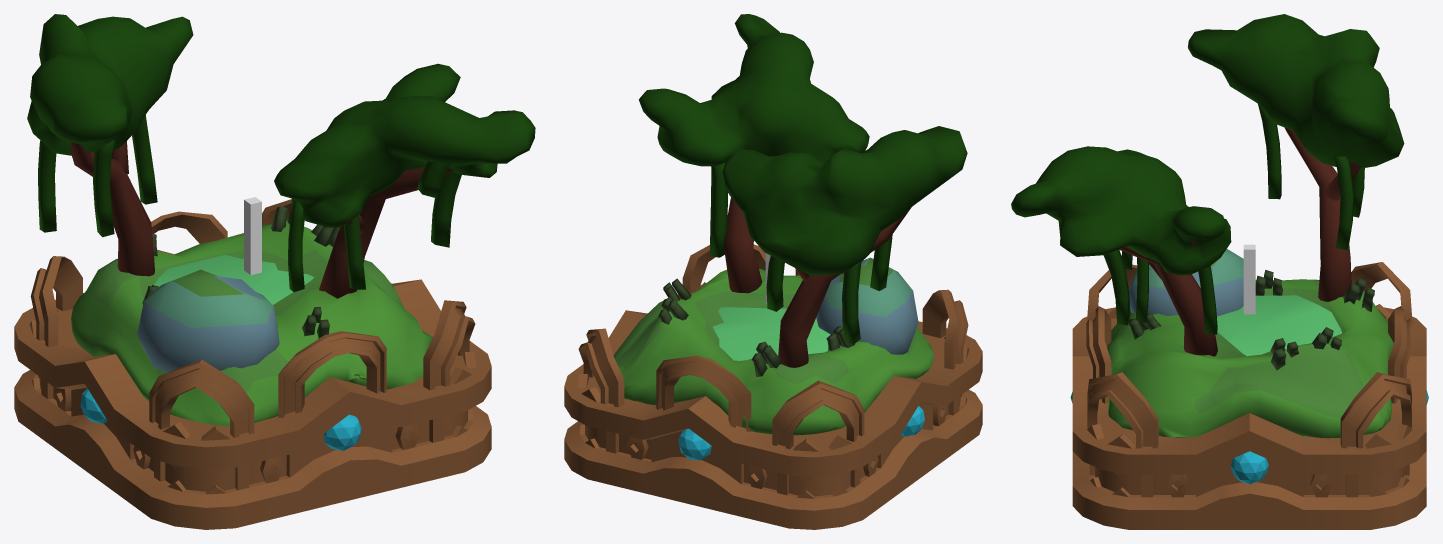
The model's file is Tile_swamp.fbx.
3 views of the same model, side by side, from view 1: azimuth 30°, elevation 25°; view 2: azimuth 150°, elevation 25°; view 3: azimuth 270°, elevation 25° (orthographic). The views are drawn at different scales.
Parts seen in each view (by area): view 1: Cube.008, Icosphere.013, Cube, Icosphere.014, Icosphere, Cylinder.003, Cylinder, Cube.001; view 2: Cube.008, Icosphere.014, Icosphere.013, Cube, Icosphere, Cylinder.003, Cylinder, Cube.004; view 3: Cube.008, Cube, Icosphere.014, Icosphere.013, Cylinder.003, Icosphere, Cylinder, Cube.001, Cube.004, Cube.002, Cube.005.
Boxes of the visible parts, x1=… form: Cube.008: x1=14, y1=199, x2=491, y2=529; Icosphere.013: x1=274, y1=63, x2=535, y2=292; Cube: x1=71, y1=220, x2=432, y2=426; Icosphere.014: x1=27, y1=14, x2=193, y2=237; Icosphere: x1=137, y1=269, x2=279, y2=372; Cylinder.003: x1=70, y1=141, x2=154, y2=276; Cylinder: x1=319, y1=166, x2=453, y2=298; Cube.001: x1=244, y1=197, x2=261, y2=275; Cube.008: x1=564, y1=244, x2=982, y2=529; Icosphere.014: x1=722, y1=126, x2=967, y2=344; Icosphere.013: x1=638, y1=14, x2=869, y2=257; Cube: x1=613, y1=268, x2=933, y2=435; Icosphere: x1=816, y1=257, x2=918, y2=354; Cylinder.003: x1=778, y1=194, x2=911, y2=367; Cylinder: x1=710, y1=166, x2=762, y2=293; Cube.004: x1=751, y1=341, x2=781, y2=376; Cube.008: x1=1070, y1=262, x2=1428, y2=529; Cube: x1=1107, y1=279, x2=1393, y2=438; Icosphere.014: x1=1188, y1=14, x2=1404, y2=250; Icosphere.013: x1=1011, y1=146, x2=1231, y2=334; Cylinder.003: x1=1284, y1=127, x2=1360, y2=301; Icosphere: x1=1129, y1=249, x2=1255, y2=316; Cylinder: x1=1119, y1=239, x2=1217, y2=356; Cube.001: x1=1243, y1=244, x2=1255, y2=314; Cube.004: x1=1343, y1=277, x2=1374, y2=311; Cube.002: x1=1270, y1=338, x2=1299, y2=370; Cube.005: x1=1255, y1=270, x2=1282, y2=295.
Size of the model in its own units: 226 by 229 by 236.
